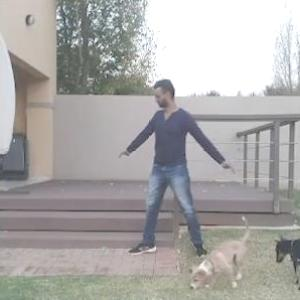land: (116, 79, 240, 258)
